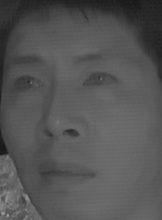eye: (80, 69, 120, 91), (12, 70, 47, 95)
mouth: (32, 154, 97, 193)
